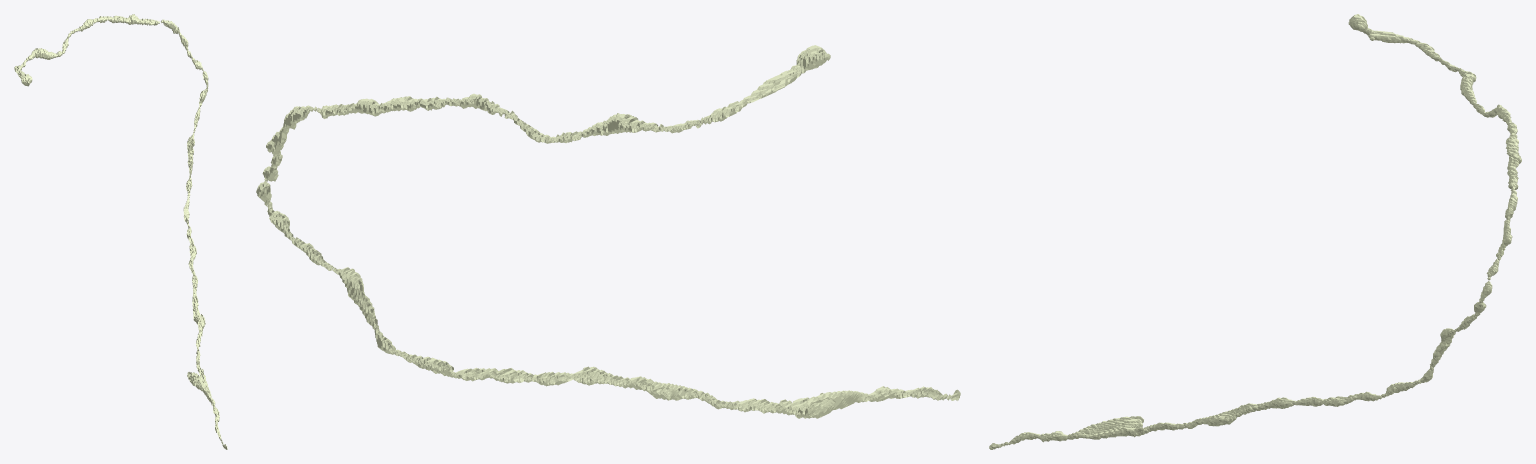
File: SVV_AVJL.gltf
3 renders of one model, left to right at view 1: azimuth 30°, elevation 25°; view 2: azimuth 150°, elevation 25°; view 3: azimuth 270°, elevation 25°, orthographic. The views are drawn at different scales.
Parts seen in each view (by area): view 1: AVJL; view 2: AVJL; view 3: AVJL.
Part boxes in pixels (left/top/right/bottom): AVJL: left=14, top=14, right=227, bottom=449; AVJL: left=256, top=45, right=960, bottom=418; AVJL: left=989, top=14, right=1521, bottom=449.
Size of the model in its own units: 132175 by 155627 by 192024.
